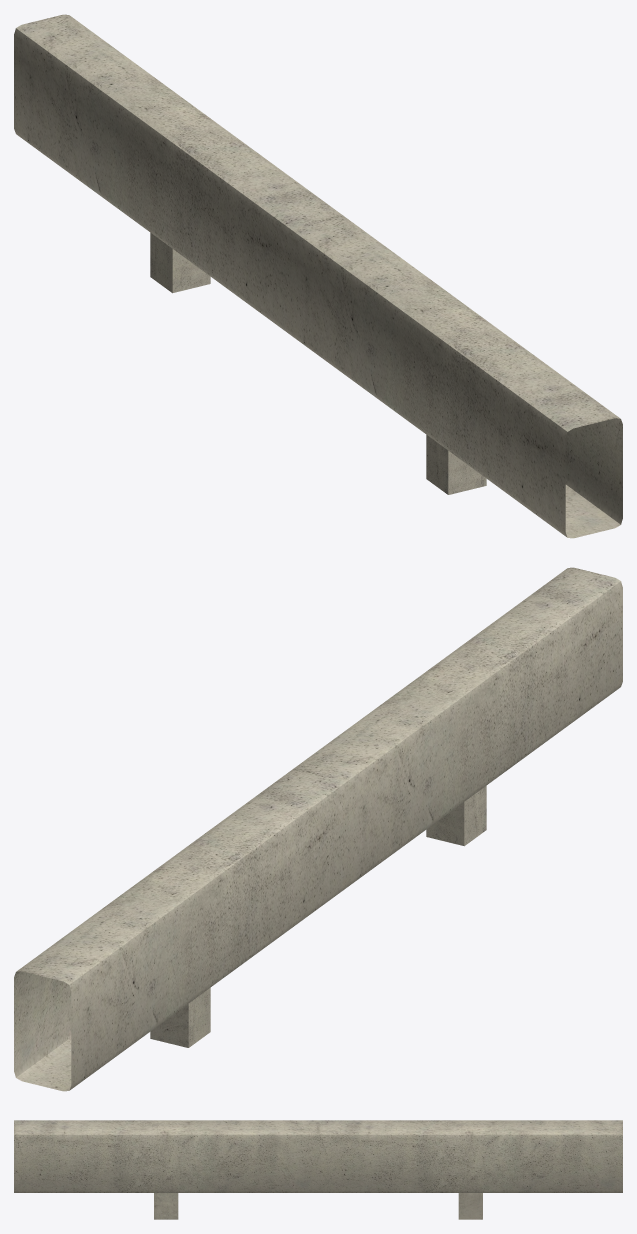
The model's file is GSDRailing2.FBX.
3 renders of one model, top to bottom at view 1: azimuth 30°, elevation 25°; view 2: azimuth 150°, elevation 25°; view 3: azimuth 270°, elevation 25°, orthographic. The views are drawn at different scales.
Parts seen in each view (by area): view 1: GSDRailing2; view 2: GSDRailing2; view 3: GSDRailing2.
Boxes of the visible parts, <box> form: GSDRailing2: <box>14,14,622,538</box>; GSDRailing2: <box>14,567,622,1091</box>; GSDRailing2: <box>14,1120,622,1219</box>.
Size of the model in its own units: 0.3 by 0.8 by 5.
